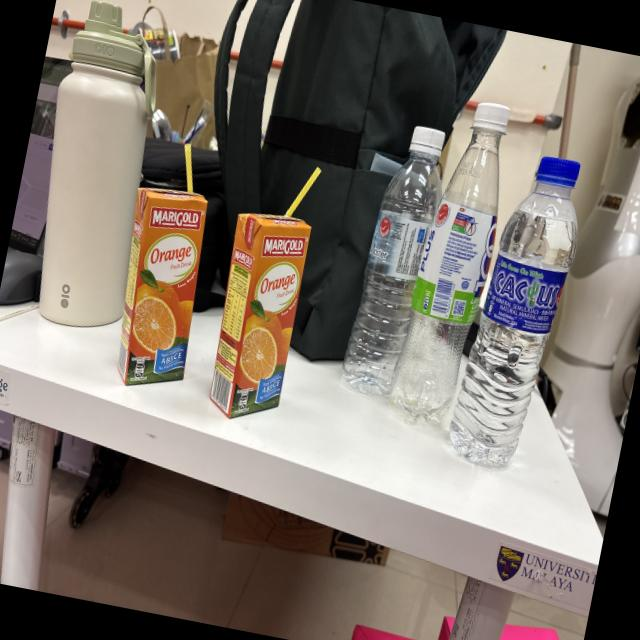drink_carton: (192, 146, 334, 432), (94, 128, 240, 403)
plastic_bottle: (428, 130, 596, 492), (373, 87, 528, 444), (330, 109, 462, 414)
